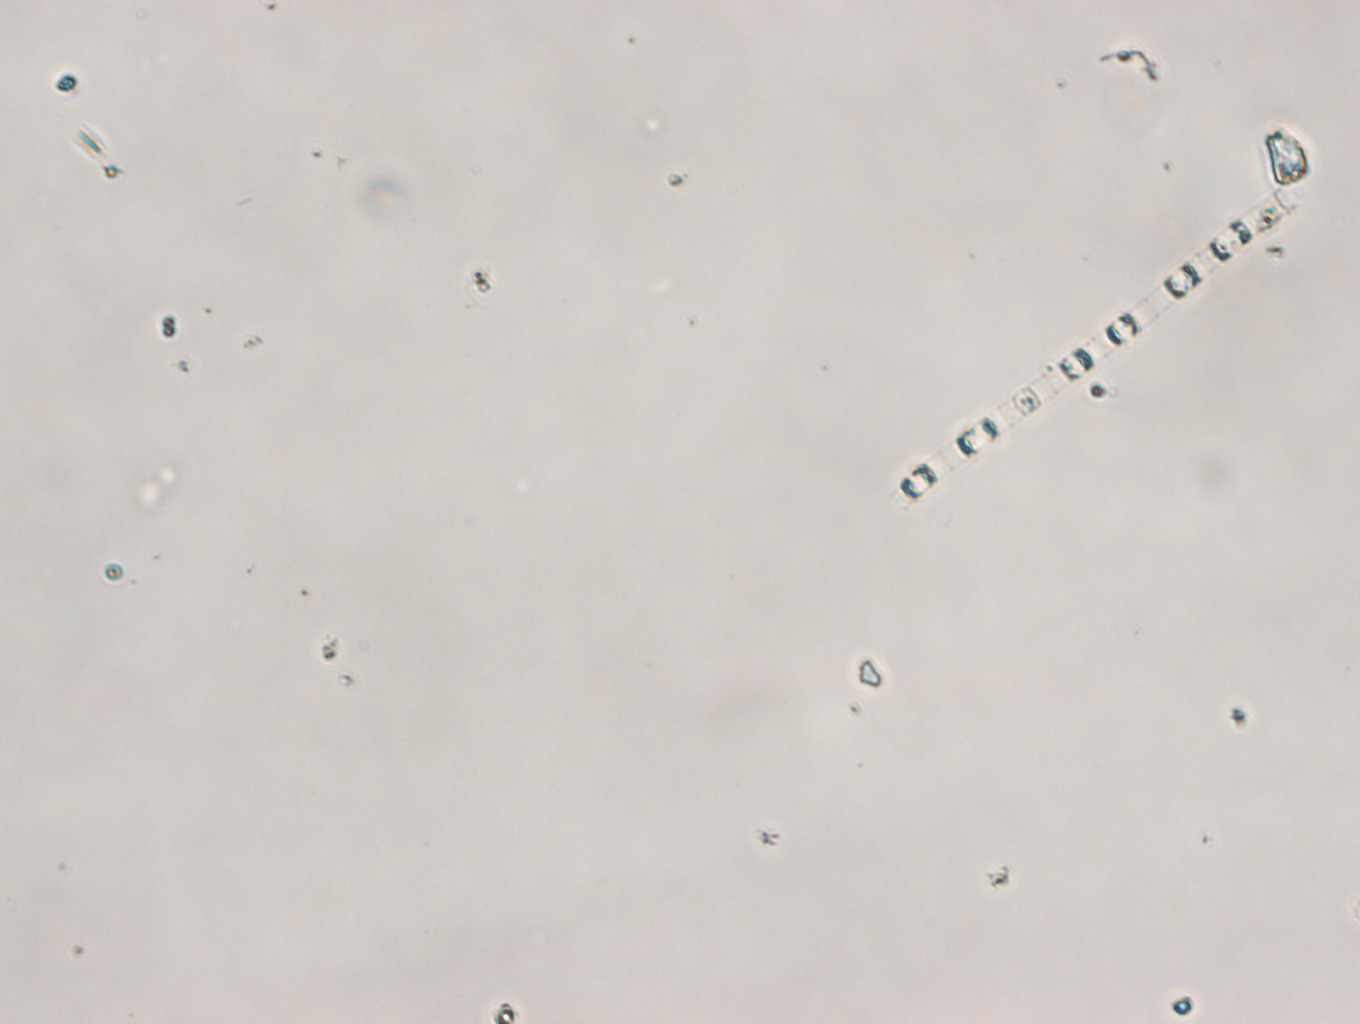skeletonema: (891, 189, 1301, 510)
